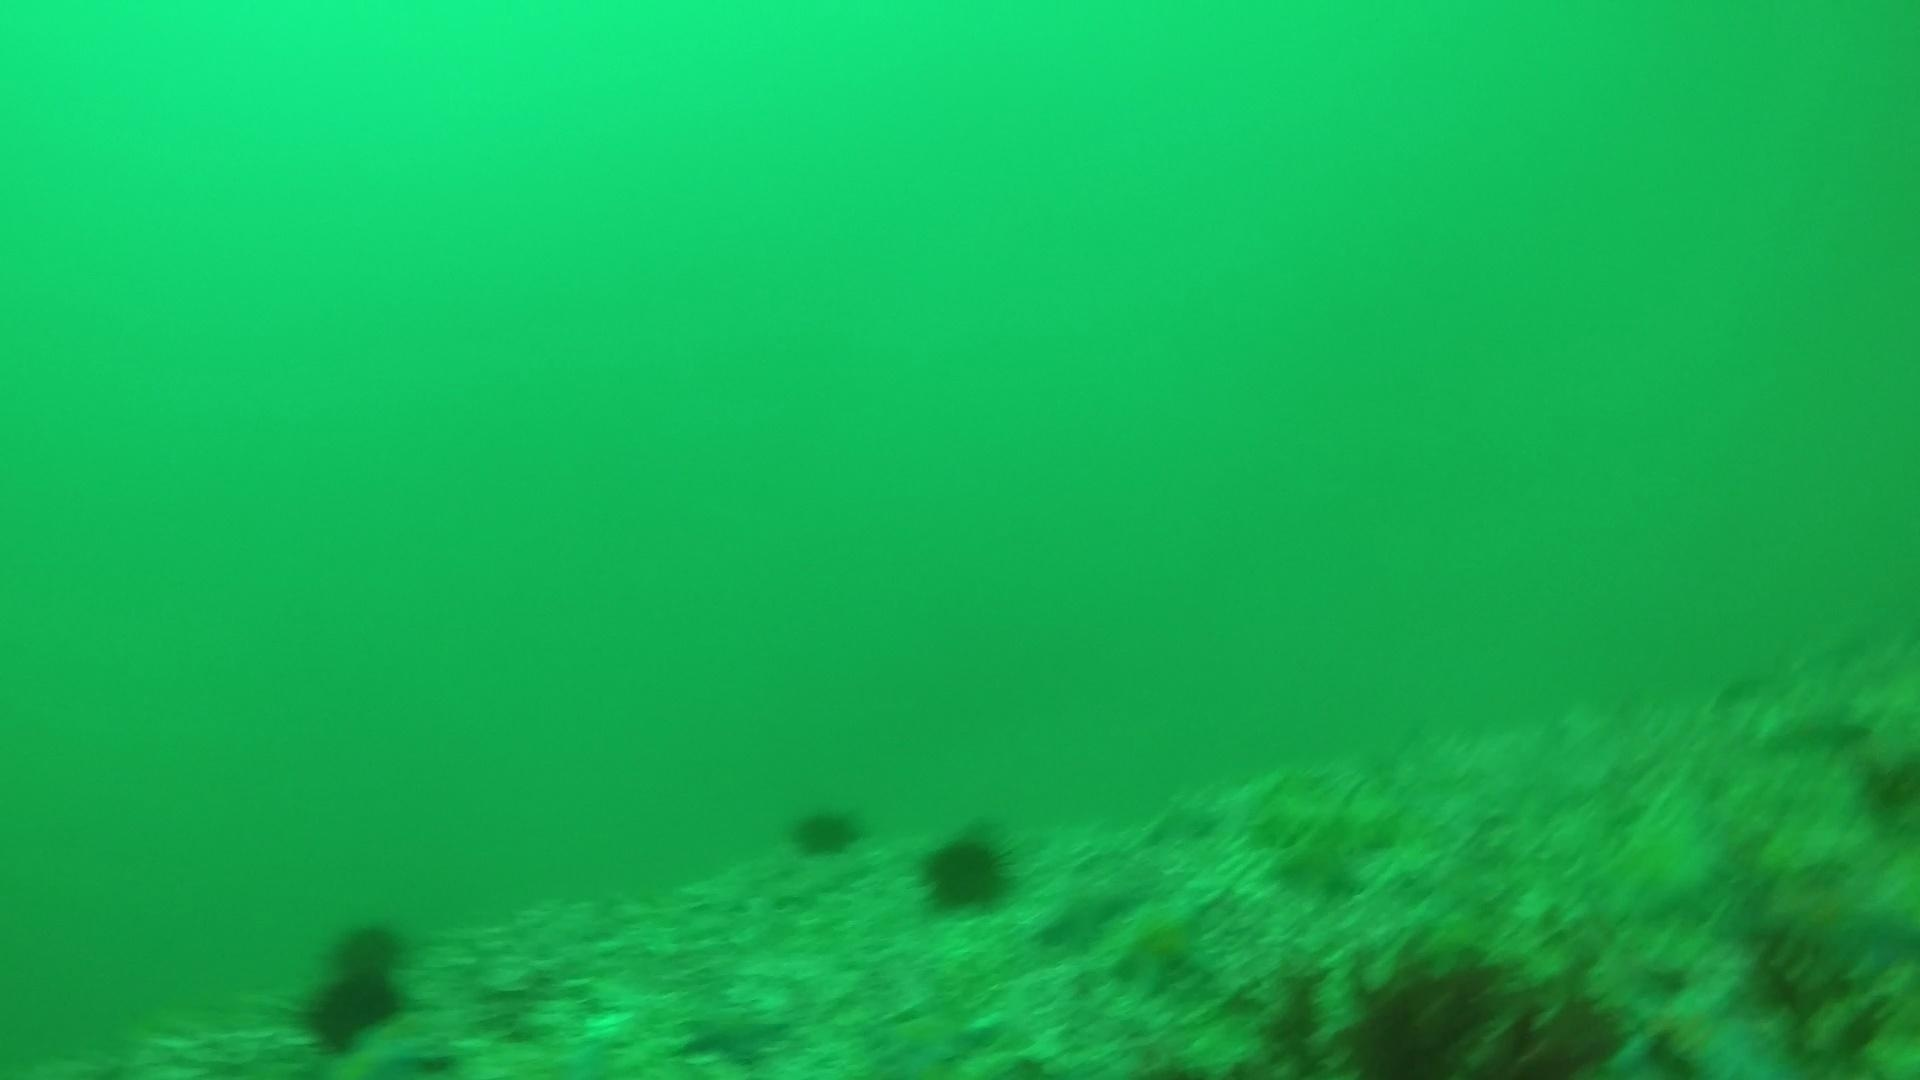echinus: (293, 952, 407, 1054), (913, 822, 1019, 916), (324, 913, 411, 981), (786, 796, 866, 860)
holothurian: (1259, 790, 1410, 849)
starfish: (1586, 789, 1734, 924), (1636, 977, 1797, 1077), (1102, 881, 1221, 996), (865, 1004, 996, 1073), (1030, 874, 1138, 951), (674, 1001, 796, 1065)
